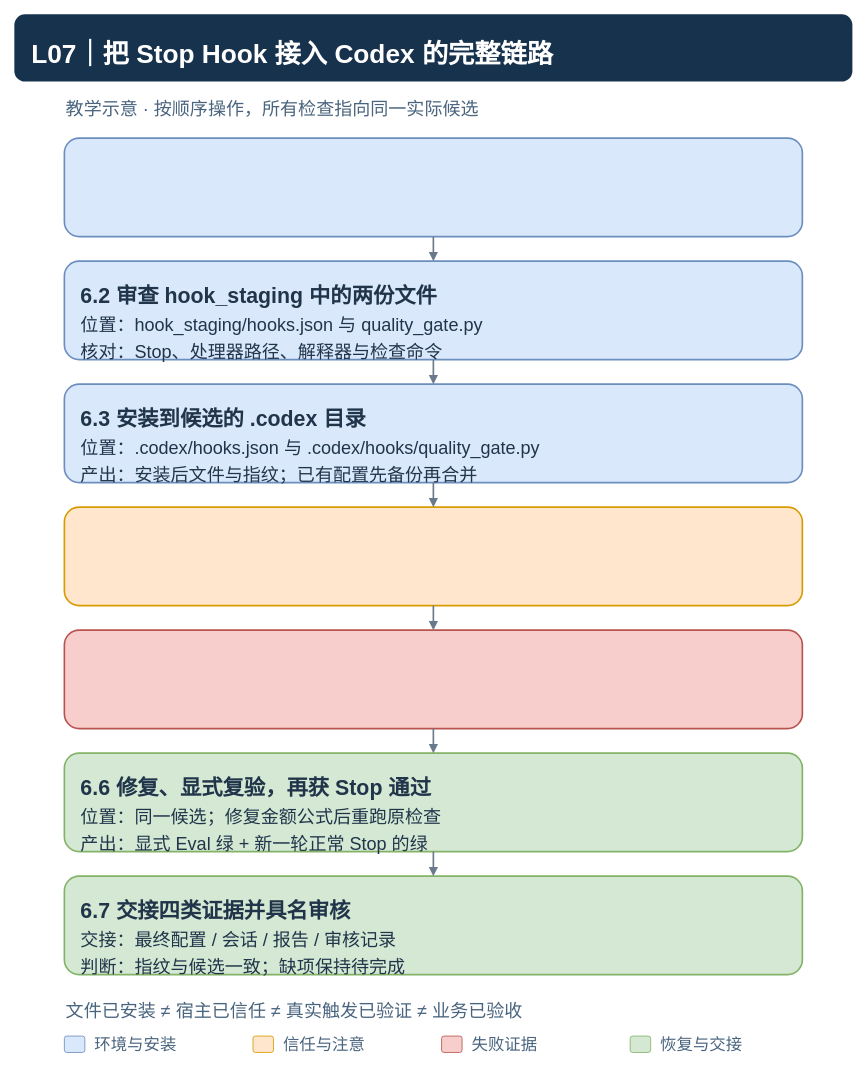
The diagram is 866 pixels wide and 1070 high, and some of its shapes have lost their labels. Each missing label, with the box of its shape:
6.1 确认实际候选与解释器 位置：第 5 节任务返回的实际候选目录 产出：候选绝对路径 + 可运行的 Python: (63, 137, 803, 237)
6.4 在候选启动 Codex CLI，用 /hooks 信任 位置：该候选目录中的交互会话 产出：项目来源、执行命令与已信任状态: (63, 506, 803, 606)
6.5 只读结束，触发真实 Stop 发现错误 位置：保留金额缺陷的候选 + Codex 会话 产出：金额错误 → 阻断理由 + 续跑记录: (63, 629, 803, 729)
